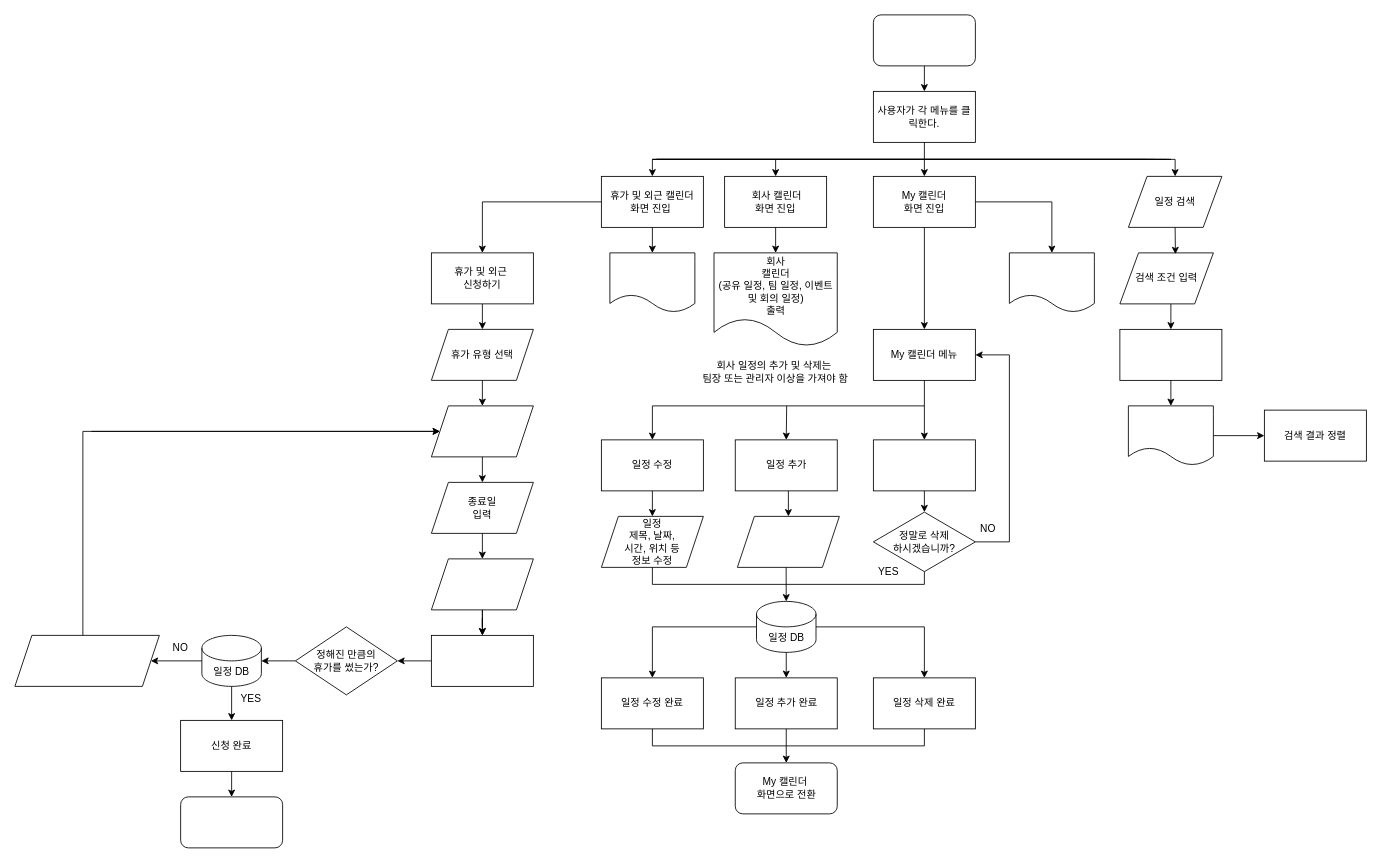
The diagram is 1381 pixels wide and 863 high, and some of its shapes have lost their labels. The shapes that lost their labels are listed below. From the top down, each one's box as (x1, y1, x2, y2) in pixels, then its label:
(873, 14, 975, 66): 일정 화면 진입
(609, 252, 695, 312): 휴가 및 외근 캘린더 출력
(1009, 252, 1094, 312): 개인 캘린더 출력
(1119, 329, 1222, 380): 검색 처리
(431, 405, 533, 457): 시작일 입력
(1128, 405, 1213, 465): 검색 결과 출력
(873, 439, 975, 491): 일정 삭제
(737, 516, 839, 567): 일정 제목, 날짜, 시간, 위치 등 정보 입력
(431, 558, 533, 610): 추가정보 입력
(14, 635, 159, 686): 휴가일을 초과하셨습니다. 다시 입력해주세요.
(431, 635, 533, 686): 신청 처리
(180, 796, 283, 848): 휴가 및 외근 캘린더 화면으로 전환
